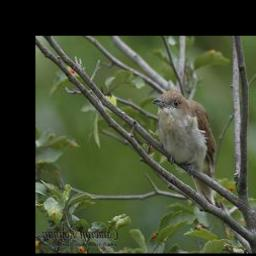Cuckoo: (153, 88, 219, 206)
